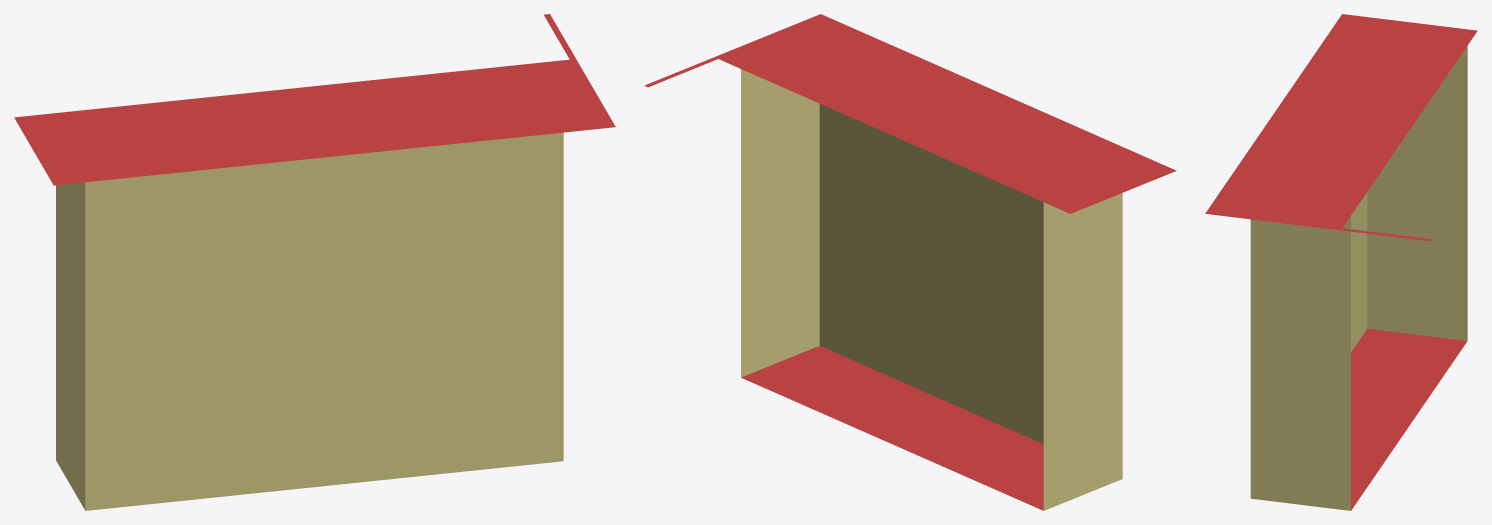
3 views of the same model, side by side, from view 1: azimuth 30°, elevation 25°; view 2: azimuth 150°, elevation 25°; view 3: azimuth 270°, elevation 25° (orthographic). The views are drawn at different scales.
Bounding box in the file's own units: 10.97 × 5.56 × 6.65.
